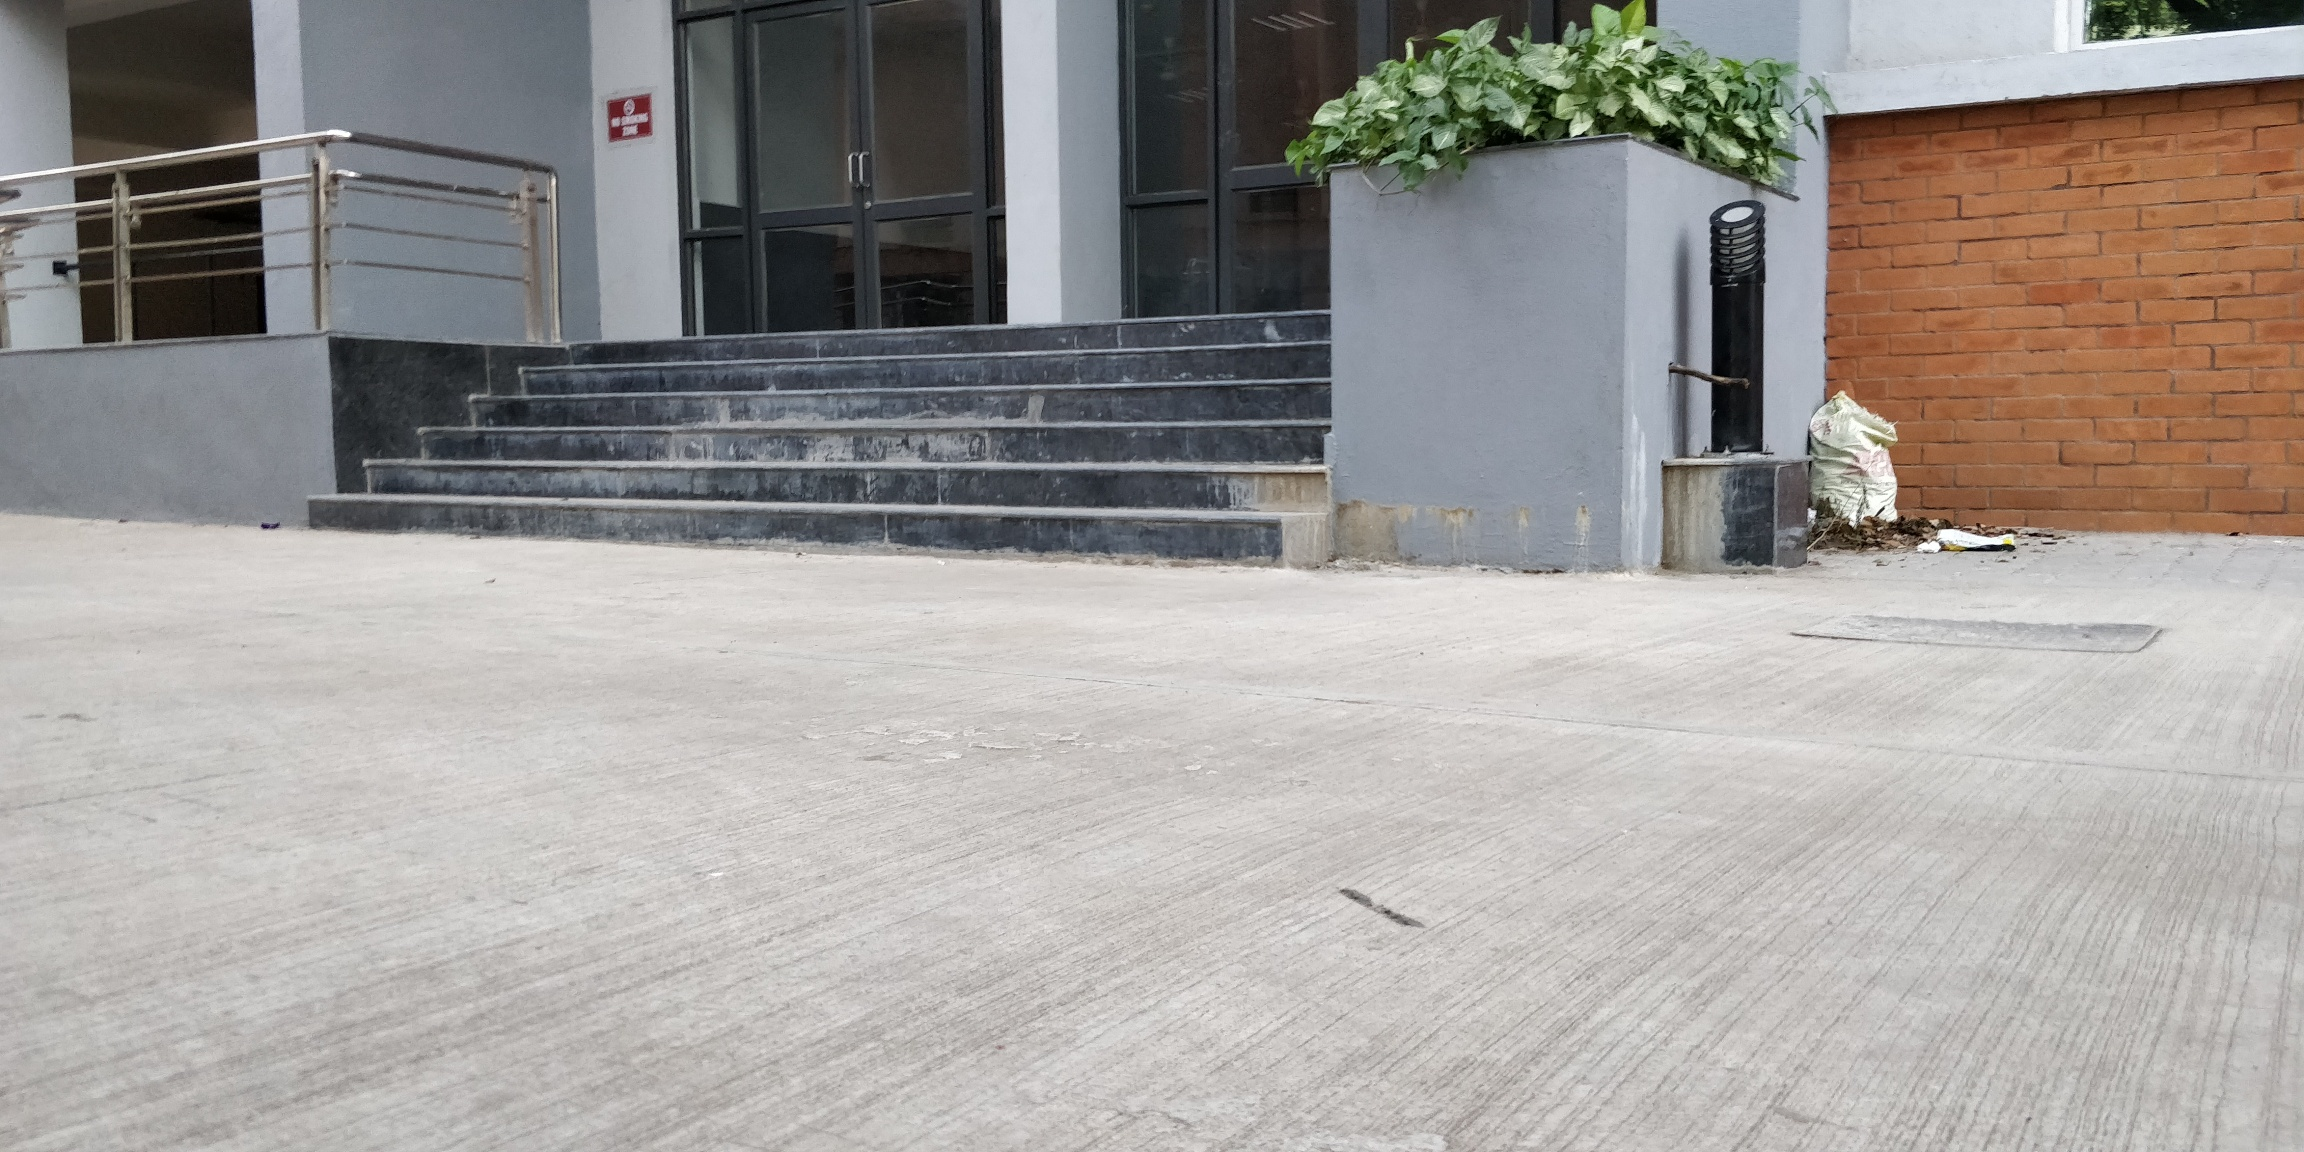stairs_up: (312, 295, 1330, 561)
